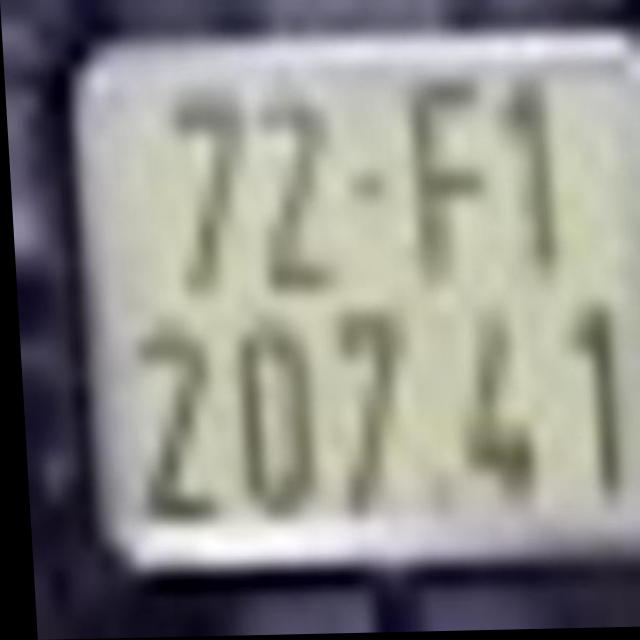0: (225, 314, 315, 522)
1: (557, 297, 630, 510), (500, 64, 564, 276)
2: (249, 86, 342, 299), (124, 321, 215, 525)
4: (453, 309, 541, 517)
7: (320, 303, 418, 527), (157, 91, 248, 304)
F: (397, 70, 503, 289)
